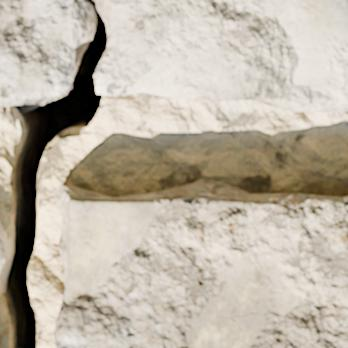brick: (54, 178, 347, 347), (0, 224, 8, 282)
broken_brick: (0, 0, 347, 113)
crack: (0, 1, 110, 347)
